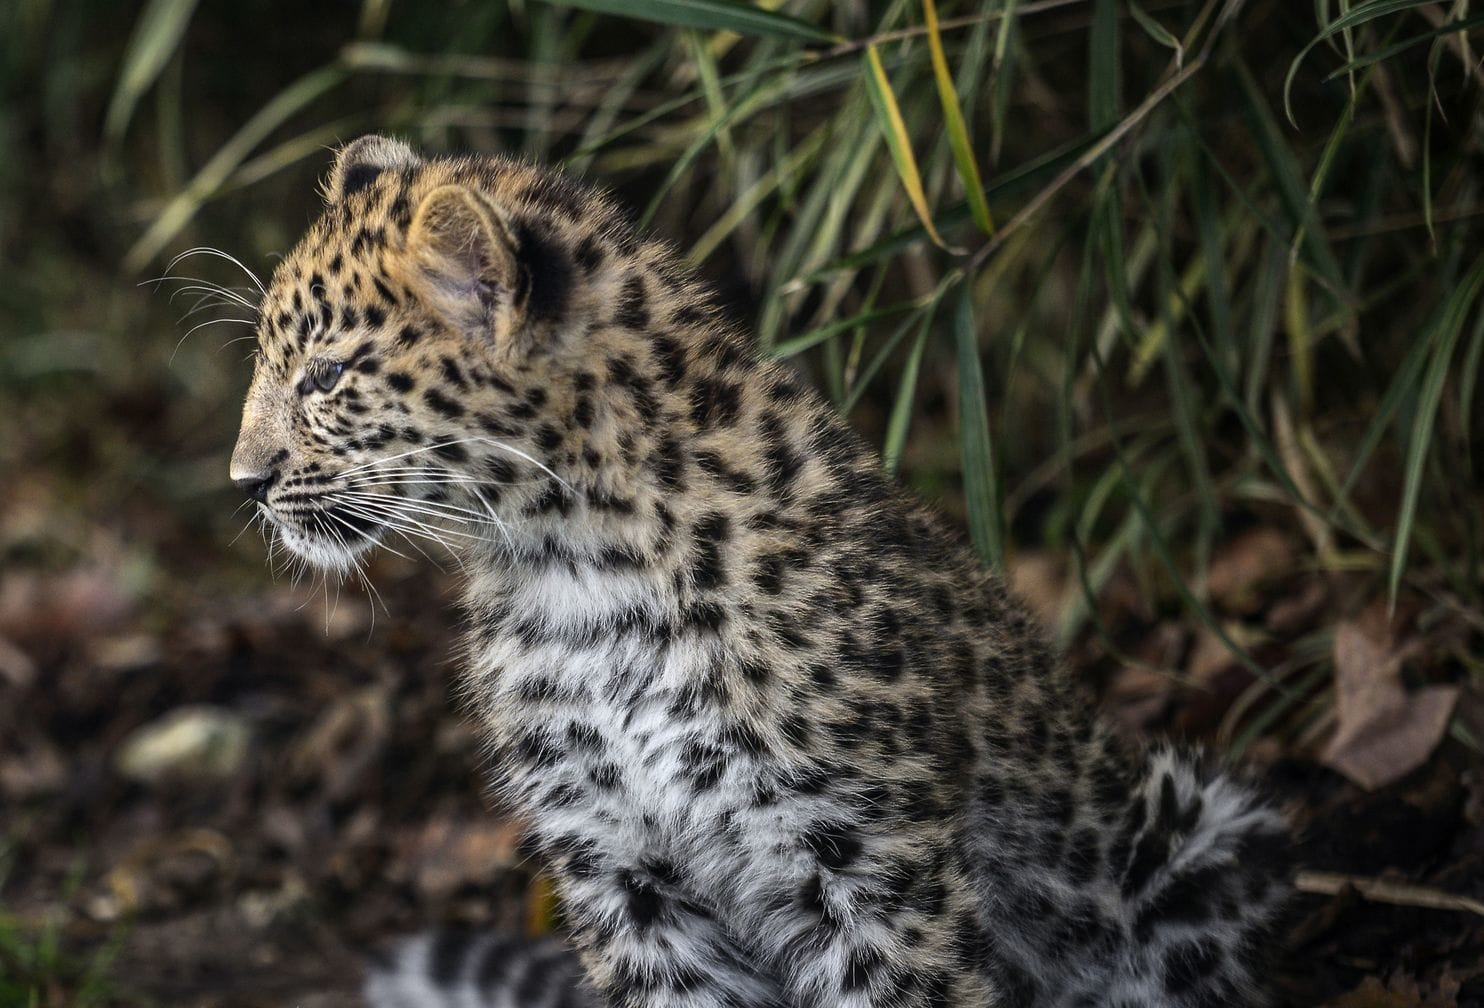amur_leopard: (187, 111, 1235, 985)
